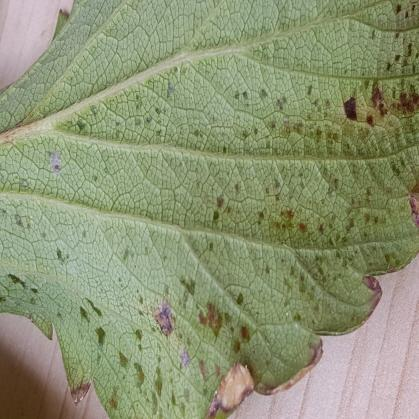Angular Leafspot: (0, 0, 418, 418)
